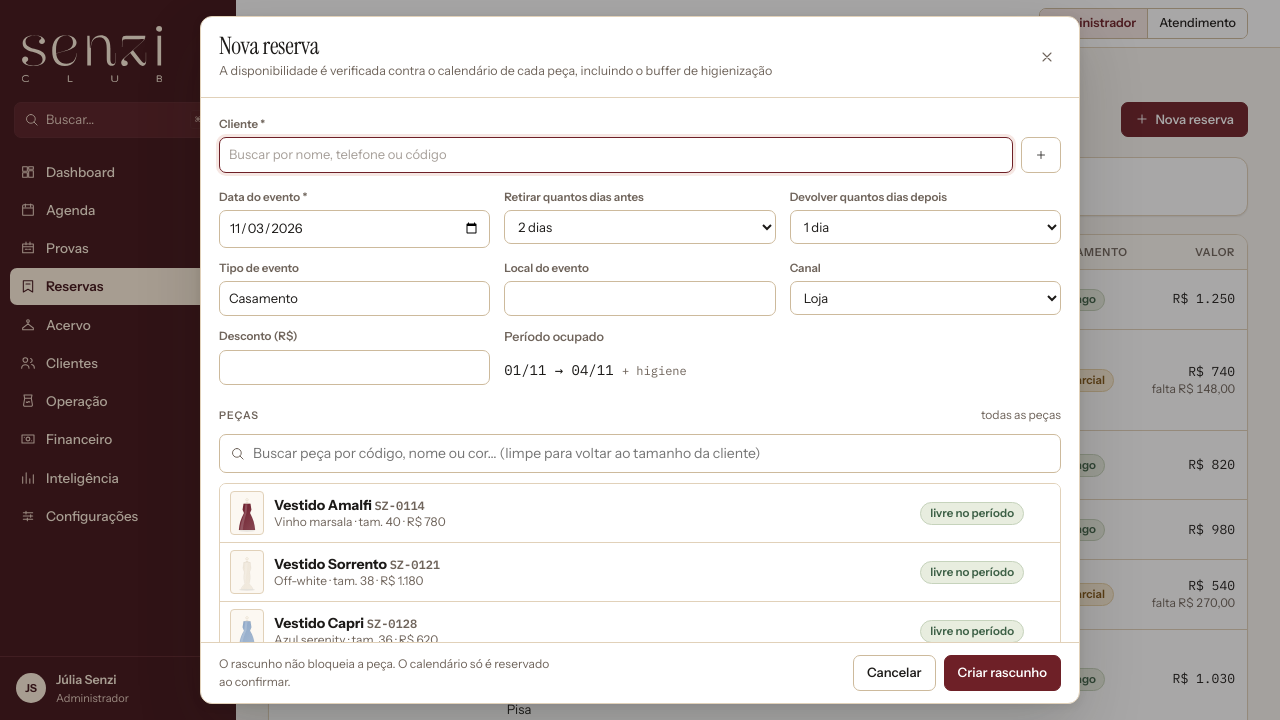
Reservas — nova reserva › botão "+" ao lado da cliente abre "Nova cliente"; cadastrada, ela fica escolhida na reserva
What coordinates should you click on to do the following:
click the button named "Cadastrar nova cliente"
I would click on:
 (1041, 155)
Its box is [1021,137,1061,173].
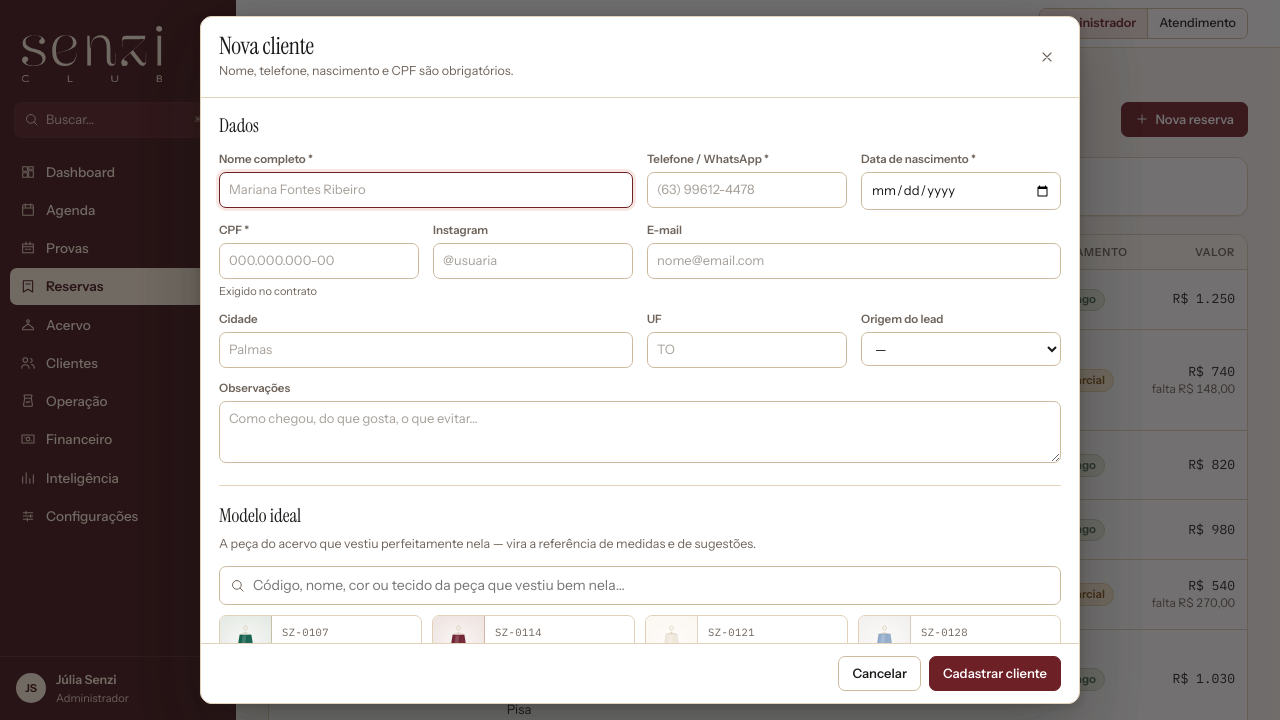
Expected: the dialog "Nova cliente" is shown
